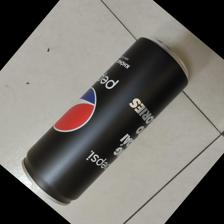Pepsi: (17, 35, 190, 207)
